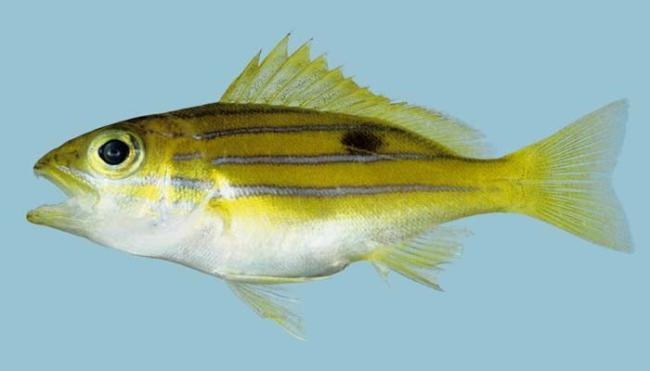fish: (26, 31, 636, 343)
